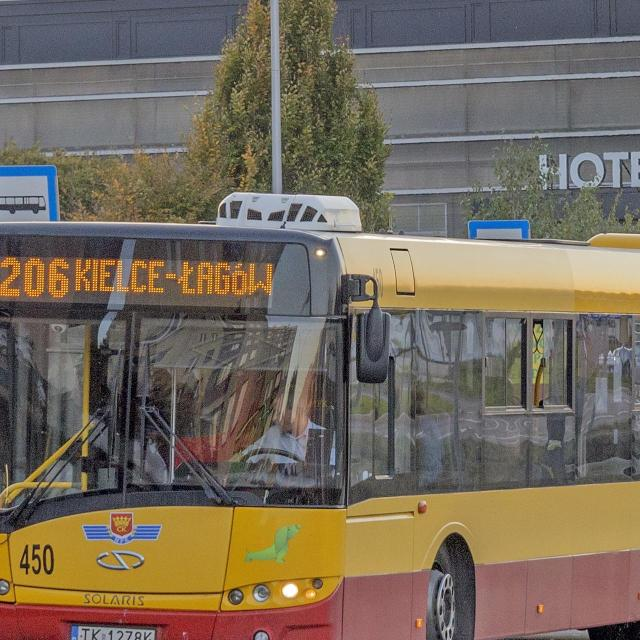Bus: (0, 193, 640, 640)
